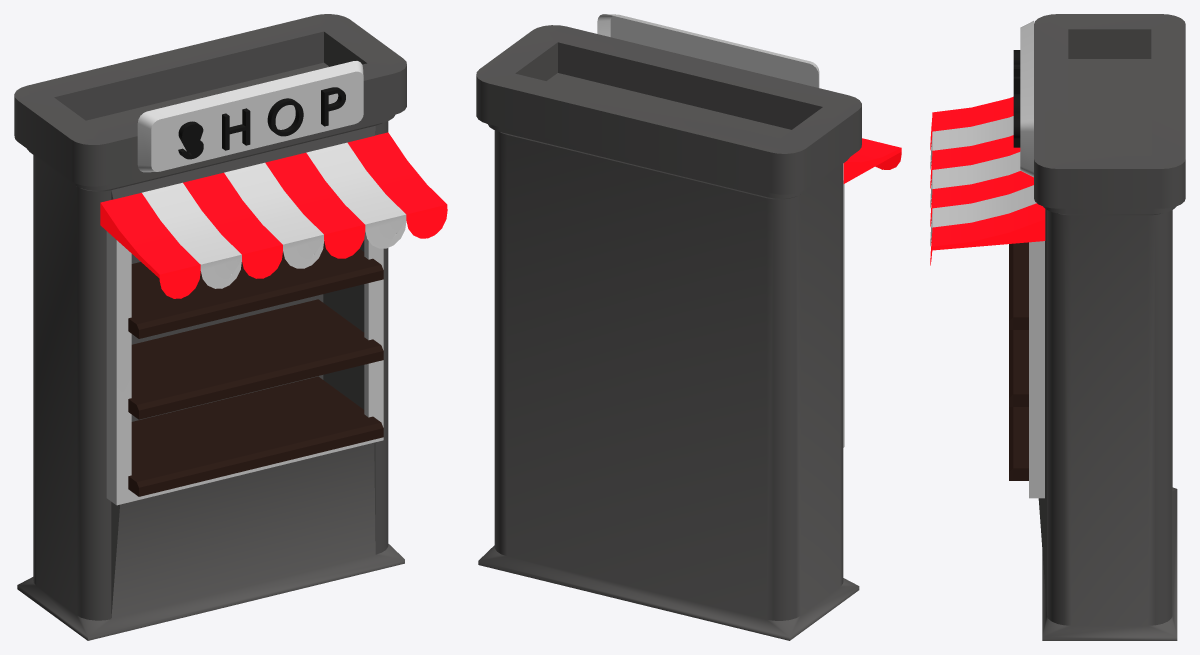
The model's file is shop.fbx.
The picture shows the model from 3 angles, left to right: view 1: azimuth 30°, elevation 25°; view 2: azimuth 150°, elevation 25°; view 3: azimuth 270°, elevation 25°; orthographic projection. The views are drawn at different scales.
Parts seen in each view (by area): view 1: House_2, House, Floor__2, Floor__3, Label_1, Window_01, Floor_, Extrude; view 2: House_2, Label_1, House; view 3: House_2, House, Window_01, Label_1, Floor_, Floor__2, Floor__3, Extrude.
Part boxes in pixels (box(x1,y1,x2,y2)): House_2: box(14, 14, 406, 640); House: box(100, 132, 447, 298); Floor__2: box(128, 299, 383, 419); Floor__3: box(128, 376, 383, 496); Label_1: box(137, 61, 363, 172); Window_01: box(106, 231, 383, 505); Floor_: box(128, 241, 383, 338); Extrude: box(178, 87, 345, 159); House_2: box(476, 25, 861, 640); Label_1: box(597, 14, 819, 87); House: box(843, 138, 901, 183); House_2: box(1034, 14, 1185, 640); House: box(930, 96, 1045, 265); Window_01: box(1029, 241, 1044, 498); Label_1: box(1020, 21, 1033, 177); Floor_: box(1009, 242, 1028, 329); Floor__2: box(1009, 330, 1028, 406); Floor__3: box(1009, 407, 1028, 480); Extrude: box(1013, 50, 1020, 147).
Bounding box in the file's own units: 10.77 × 16.11 × 7.5.
